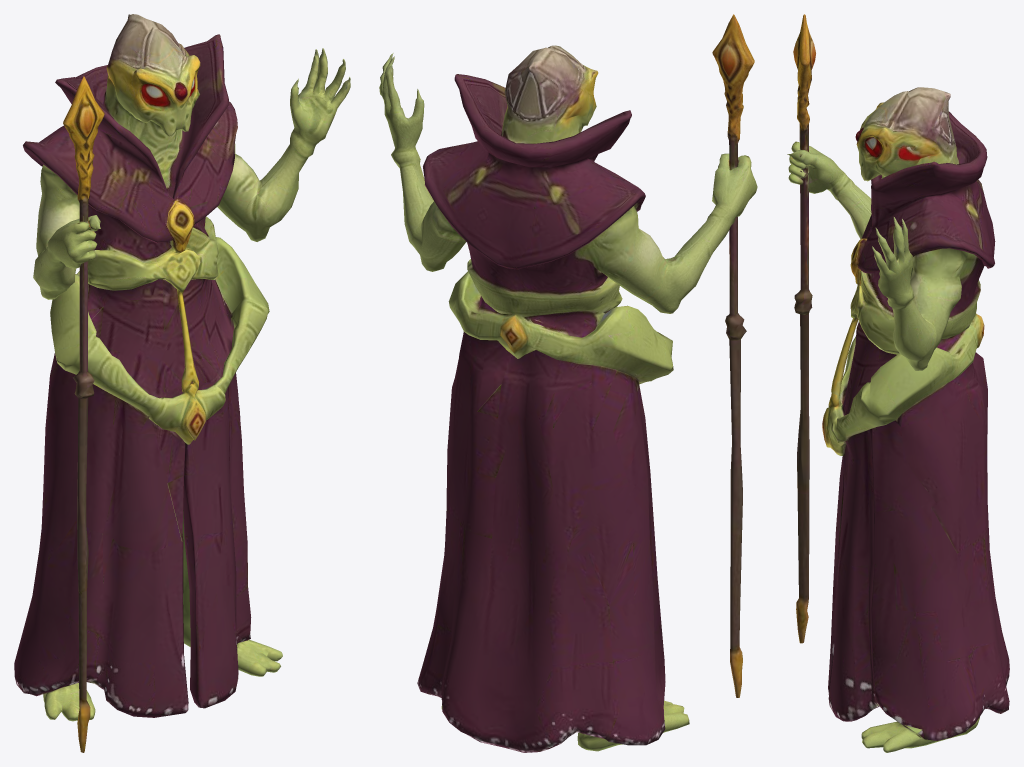
File: signore.glb
The picture shows the model from 3 angles, left to right: view 1: azimuth 30°, elevation 25°; view 2: azimuth 150°, elevation 25°; view 3: azimuth 270°, elevation 25°; orthographic projection. The views are drawn at different scales.
Size of the model in its own units: 0.4805 by 0.9521 by 0.3052.
1 material, 1 textured.
